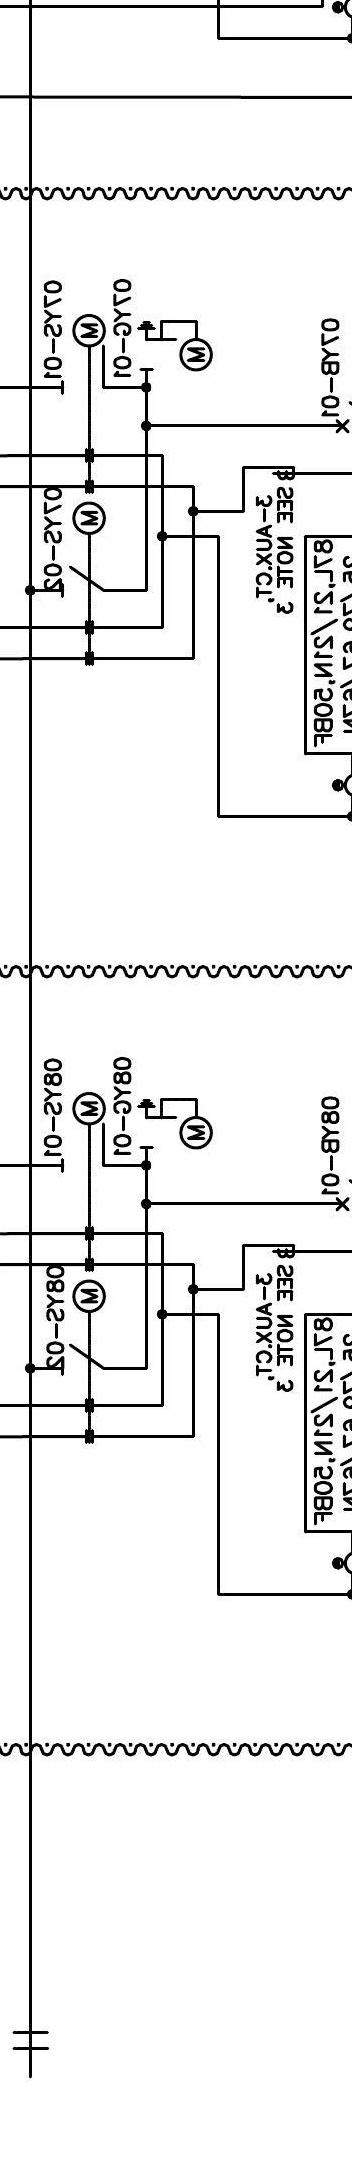115_1way_ds_w_motor: (59, 1279, 108, 1377), (59, 501, 106, 598), (61, 313, 106, 396), (61, 1091, 106, 1174)
115_buffer: (12, 2031, 50, 2050)
115_gs_w_motor: (137, 1096, 214, 1150), (137, 319, 214, 371)
